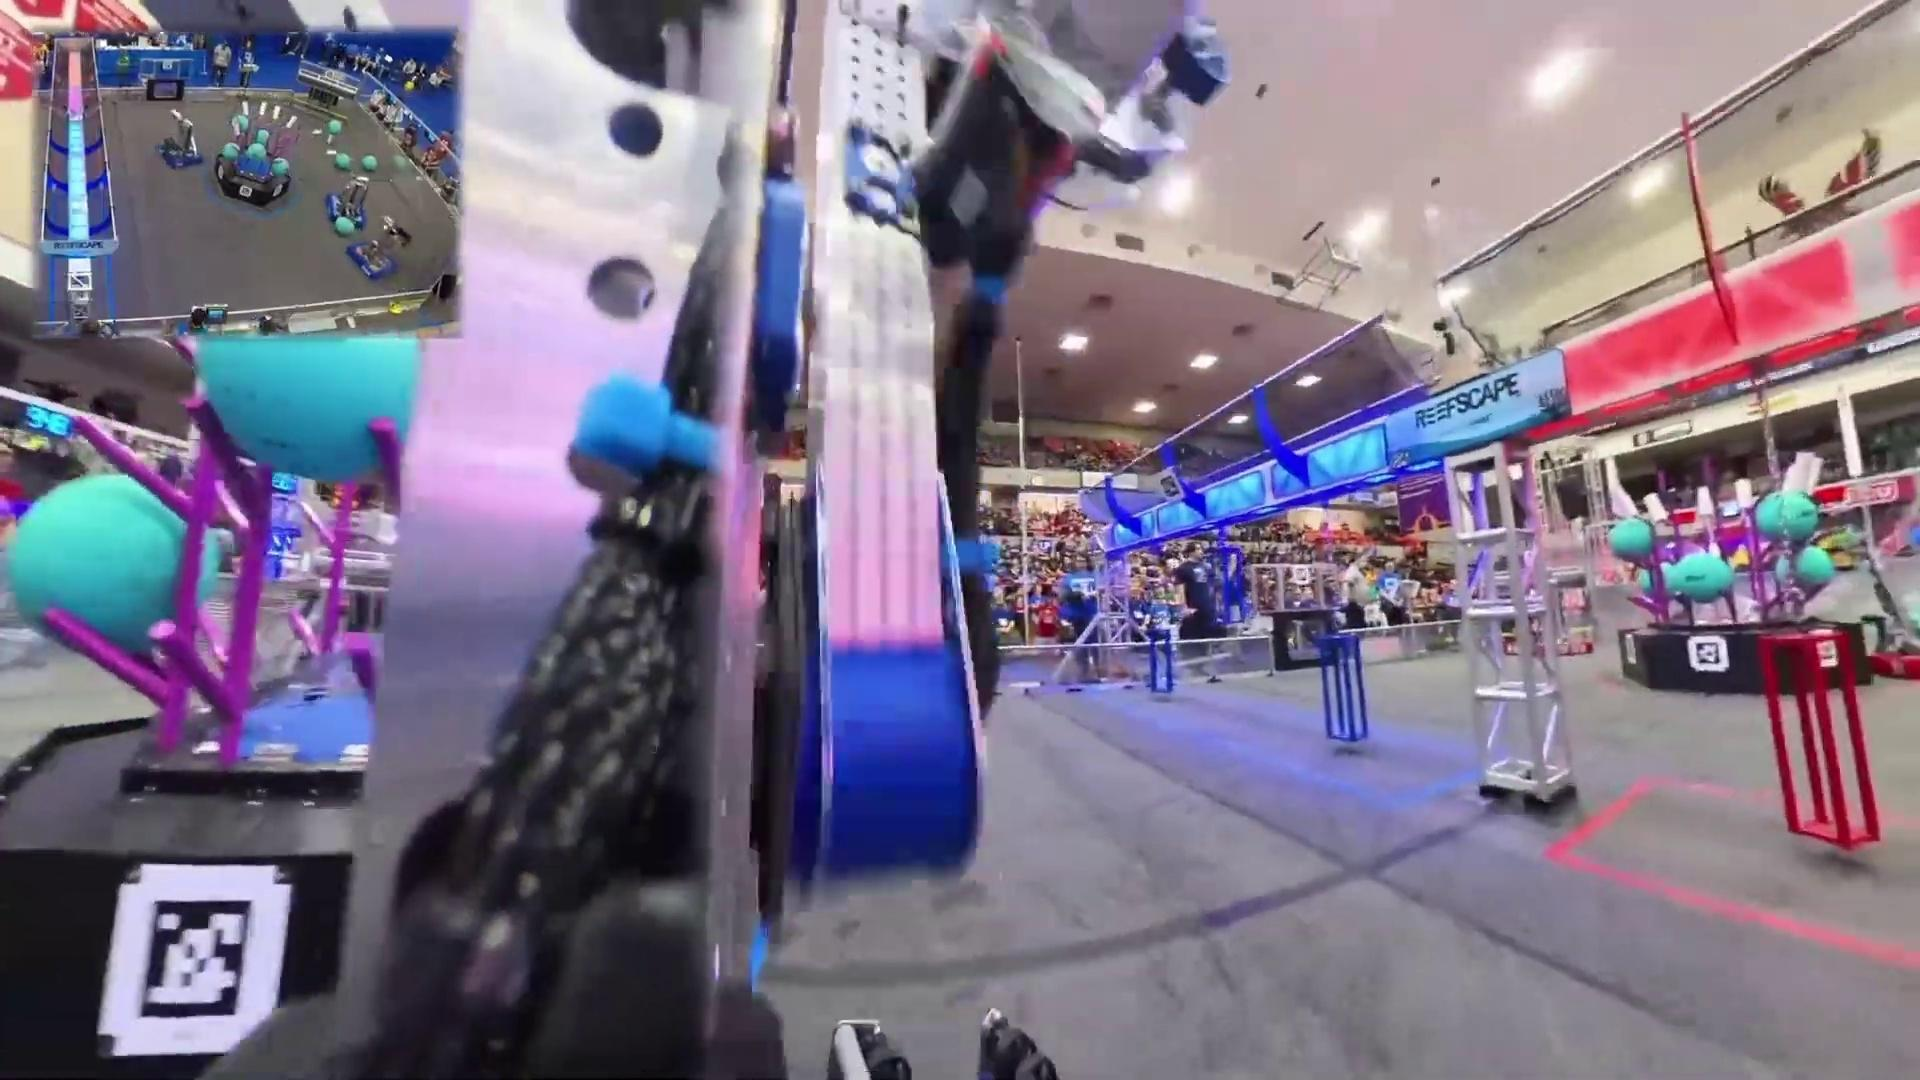robot: (344, 215, 404, 281), (154, 108, 204, 171), (327, 175, 369, 228)
